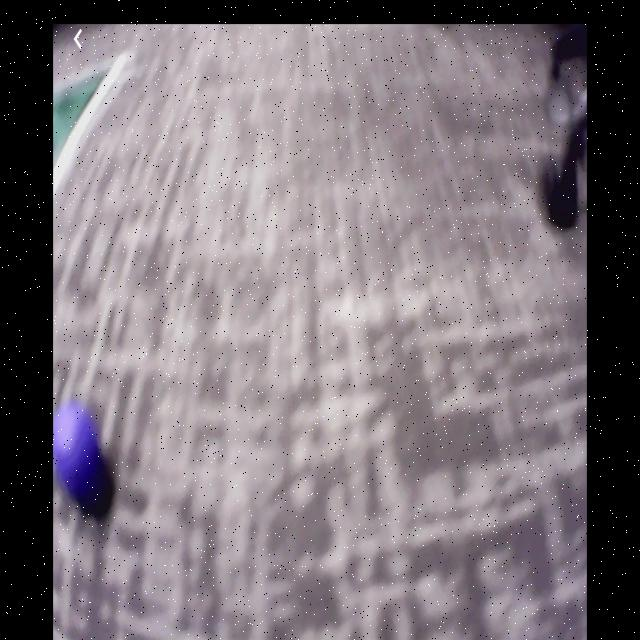ball: (55, 411, 102, 502)
